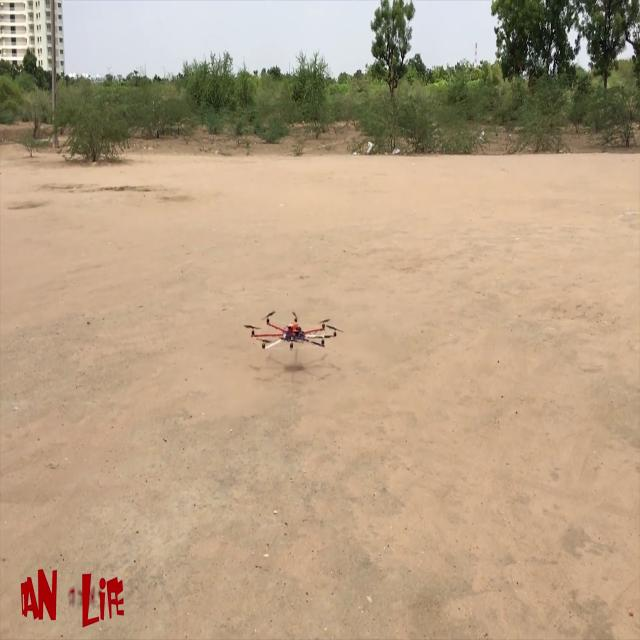drone: (237, 283, 358, 392)
